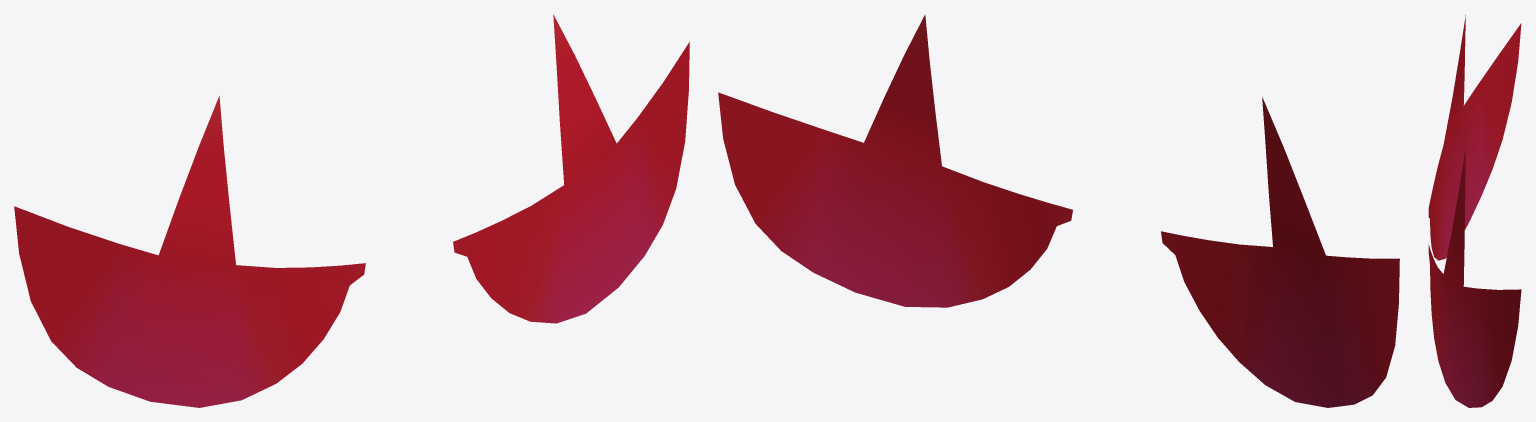
The model's file is S12_Reptile04_L2_Eye.glb.
3 renders of one model, left to right at view 1: azimuth 30°, elevation 25°; view 2: azimuth 150°, elevation 25°; view 3: azimuth 270°, elevation 25°, orthographic. The views are drawn at different scales.
Parts seen in each view (by area): view 1: S12_Reptile04_L2_Eye__Eye_M__surface0__lod0; view 2: S12_Reptile04_L2_Eye__Eye_M__surface0__lod0; view 3: S12_Reptile04_L2_Eye__Eye_M__surface0__lod0.
Boxes of the visible parts, bbox=[...] form: S12_Reptile04_L2_Eye__Eye_M__surface0__lod0: bbox=[14, 14, 689, 407]; S12_Reptile04_L2_Eye__Eye_M__surface0__lod0: bbox=[718, 14, 1399, 407]; S12_Reptile04_L2_Eye__Eye_M__surface0__lod0: bbox=[1428, 14, 1521, 407].
Size of the model in its own units: 64.49 by 27.49 by 9.5.
